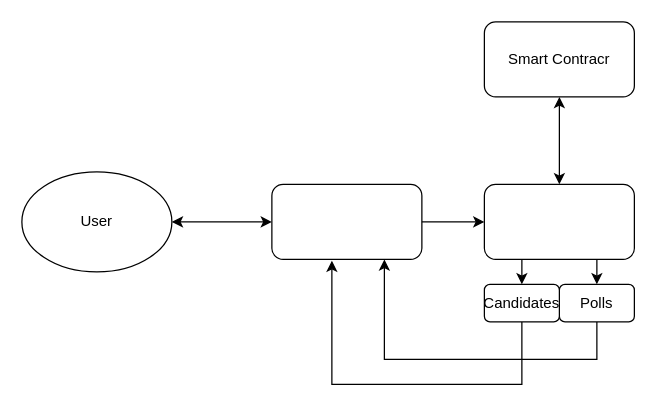
Some shapes in this 656 by 416 pixel diagram are drawn without their labels. The centre of each missing label's shape, as x and y in pixels:
"RPC" goes at point 558,221.
"Voting Panel" goes at point 346,221.
